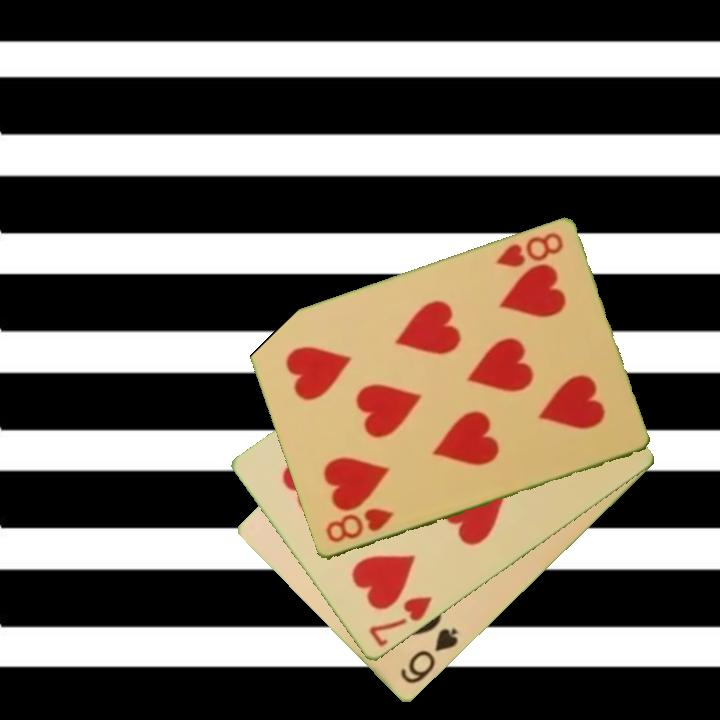6s: (396, 625, 462, 688)
7h: (365, 593, 435, 651)
8h: (322, 505, 396, 547), (492, 229, 566, 271)
